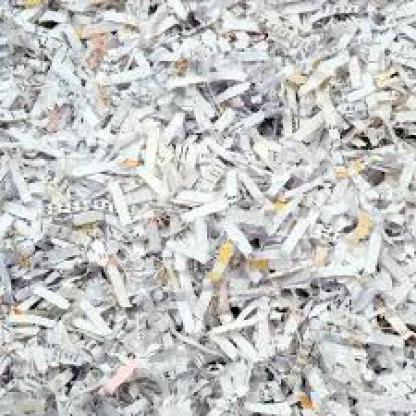Paper: (0, 5, 412, 416)
